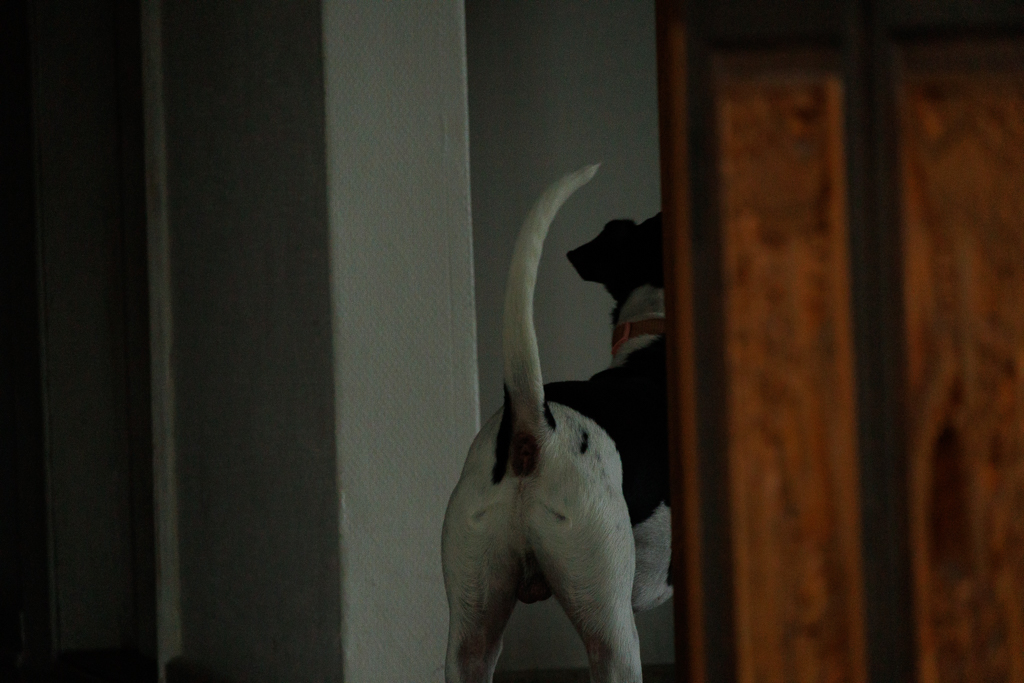Dog: (428, 152, 703, 683)
